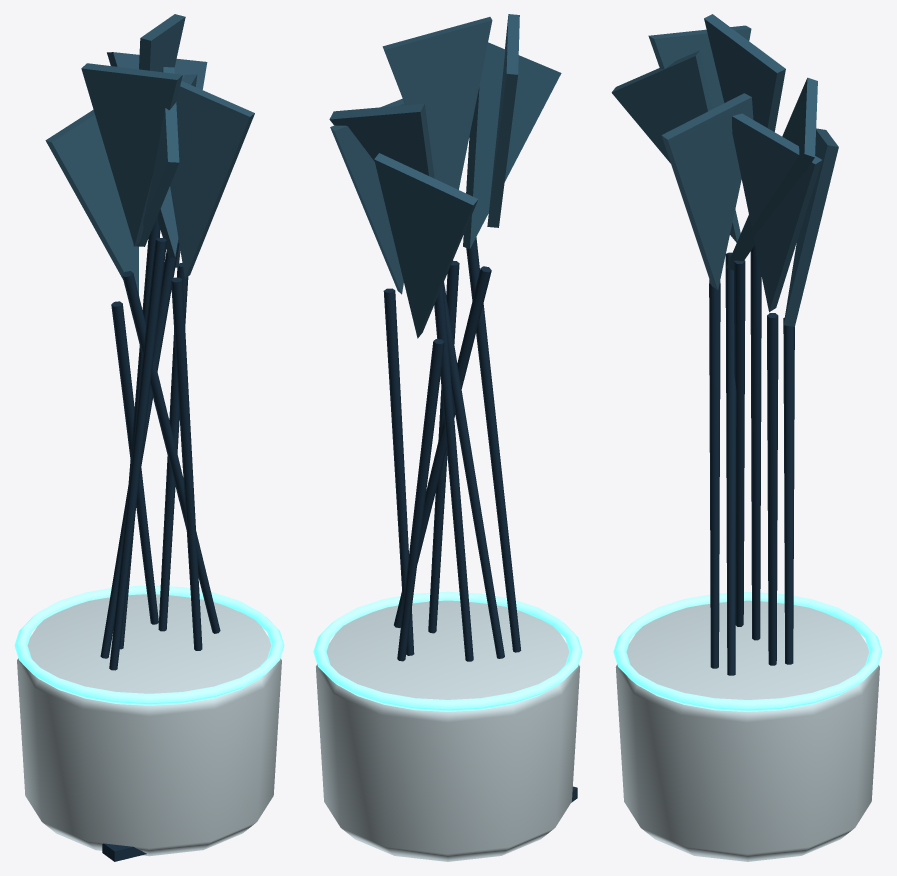
File: plantsmall1.glb
3 renders of one model, left to right at view 1: azimuth 30°, elevation 25°; view 2: azimuth 150°, elevation 25°; view 3: azimuth 270°, elevation 25°, orthographic.
Visible parts, largest first — view 1: atelier-cyber-plantsmall1; view 2: atelier-cyber-plantsmall1; view 3: atelier-cyber-plantsmall1.
Boxes of the visible parts, box(x1,y1,x2,y2) form: atelier-cyber-plantsmall1: box(14, 14, 284, 861); atelier-cyber-plantsmall1: box(313, 14, 582, 861); atelier-cyber-plantsmall1: box(611, 14, 882, 861).
Bounding box in the file's own units: 0.309 × 1 × 0.3111.
